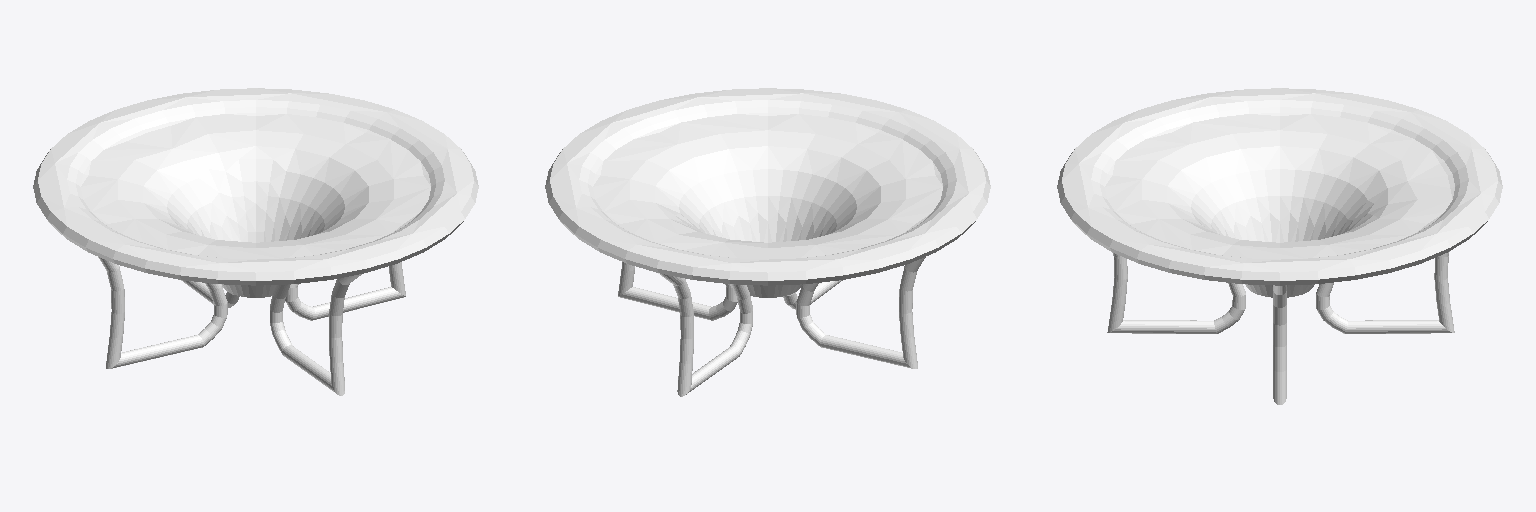
The model's file is voronkaclr.obj.
3 renders of one model, left to right at view 1: azimuth 30°, elevation 25°; view 2: azimuth 150°, elevation 25°; view 3: azimuth 270°, elevation 25°, orthographic.
Visible parts, largest first — view 1: Tube001; view 2: Tube001; view 3: Tube001.
Part boxes in pixels (x1,y1,x2,y2): Tube001: (33, 88, 478, 395); Tube001: (545, 88, 990, 396); Tube001: (1057, 88, 1502, 404).
Bounding box in the file's own units: 224 × 86 × 224.